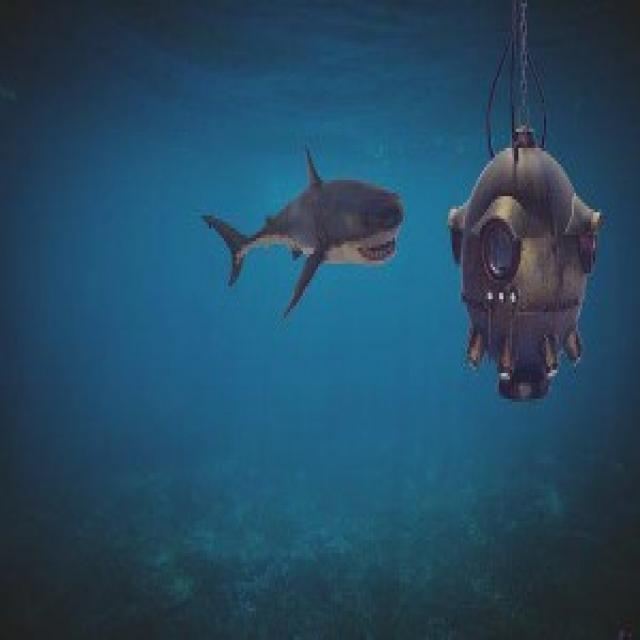Shark: (196, 138, 415, 334)
